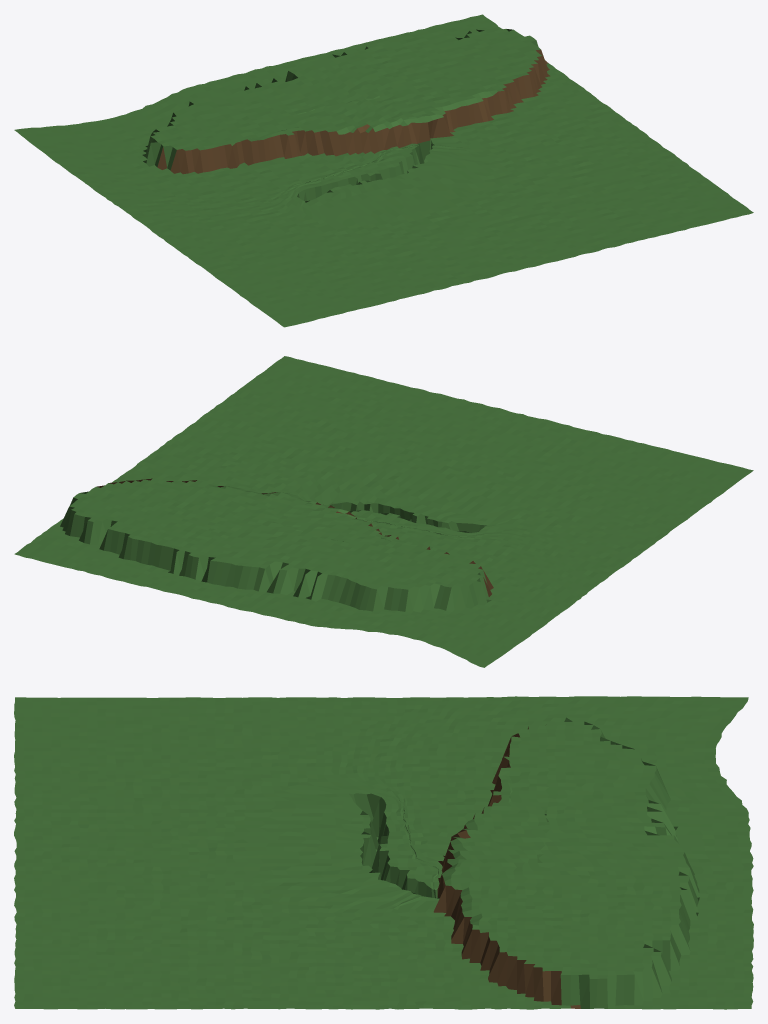
Rendered from theralin_main_menu_level.glb.
The picture shows the model from 3 angles, top to bottom: view 1: azimuth 30°, elevation 25°; view 2: azimuth 150°, elevation 25°; view 3: azimuth 270°, elevation 25°; orthographic projection. The views are drawn at different scales.
Parts seen in each view (by area): view 1: Plane.001; view 2: Plane.001; view 3: Plane.001.
Boxes of the visible parts, x1,y1,x2,y2 form: Plane.001: (14,14,753,327); Plane.001: (14,356,753,667); Plane.001: (14,696,753,1009).
Bounding box in the file's own units: 102 × 9.1 × 102.
